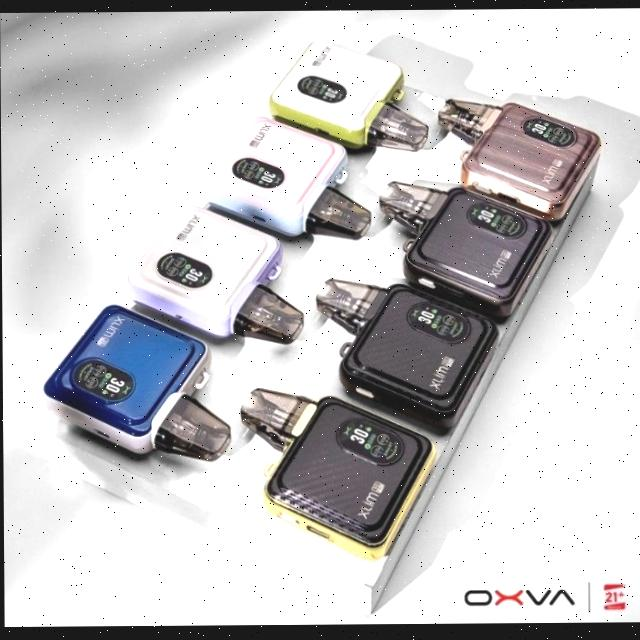vape: (238, 388, 437, 562), (39, 304, 232, 465), (315, 278, 502, 432), (124, 203, 306, 346), (378, 180, 555, 319), (202, 116, 372, 243), (437, 97, 603, 223), (269, 38, 430, 154)
